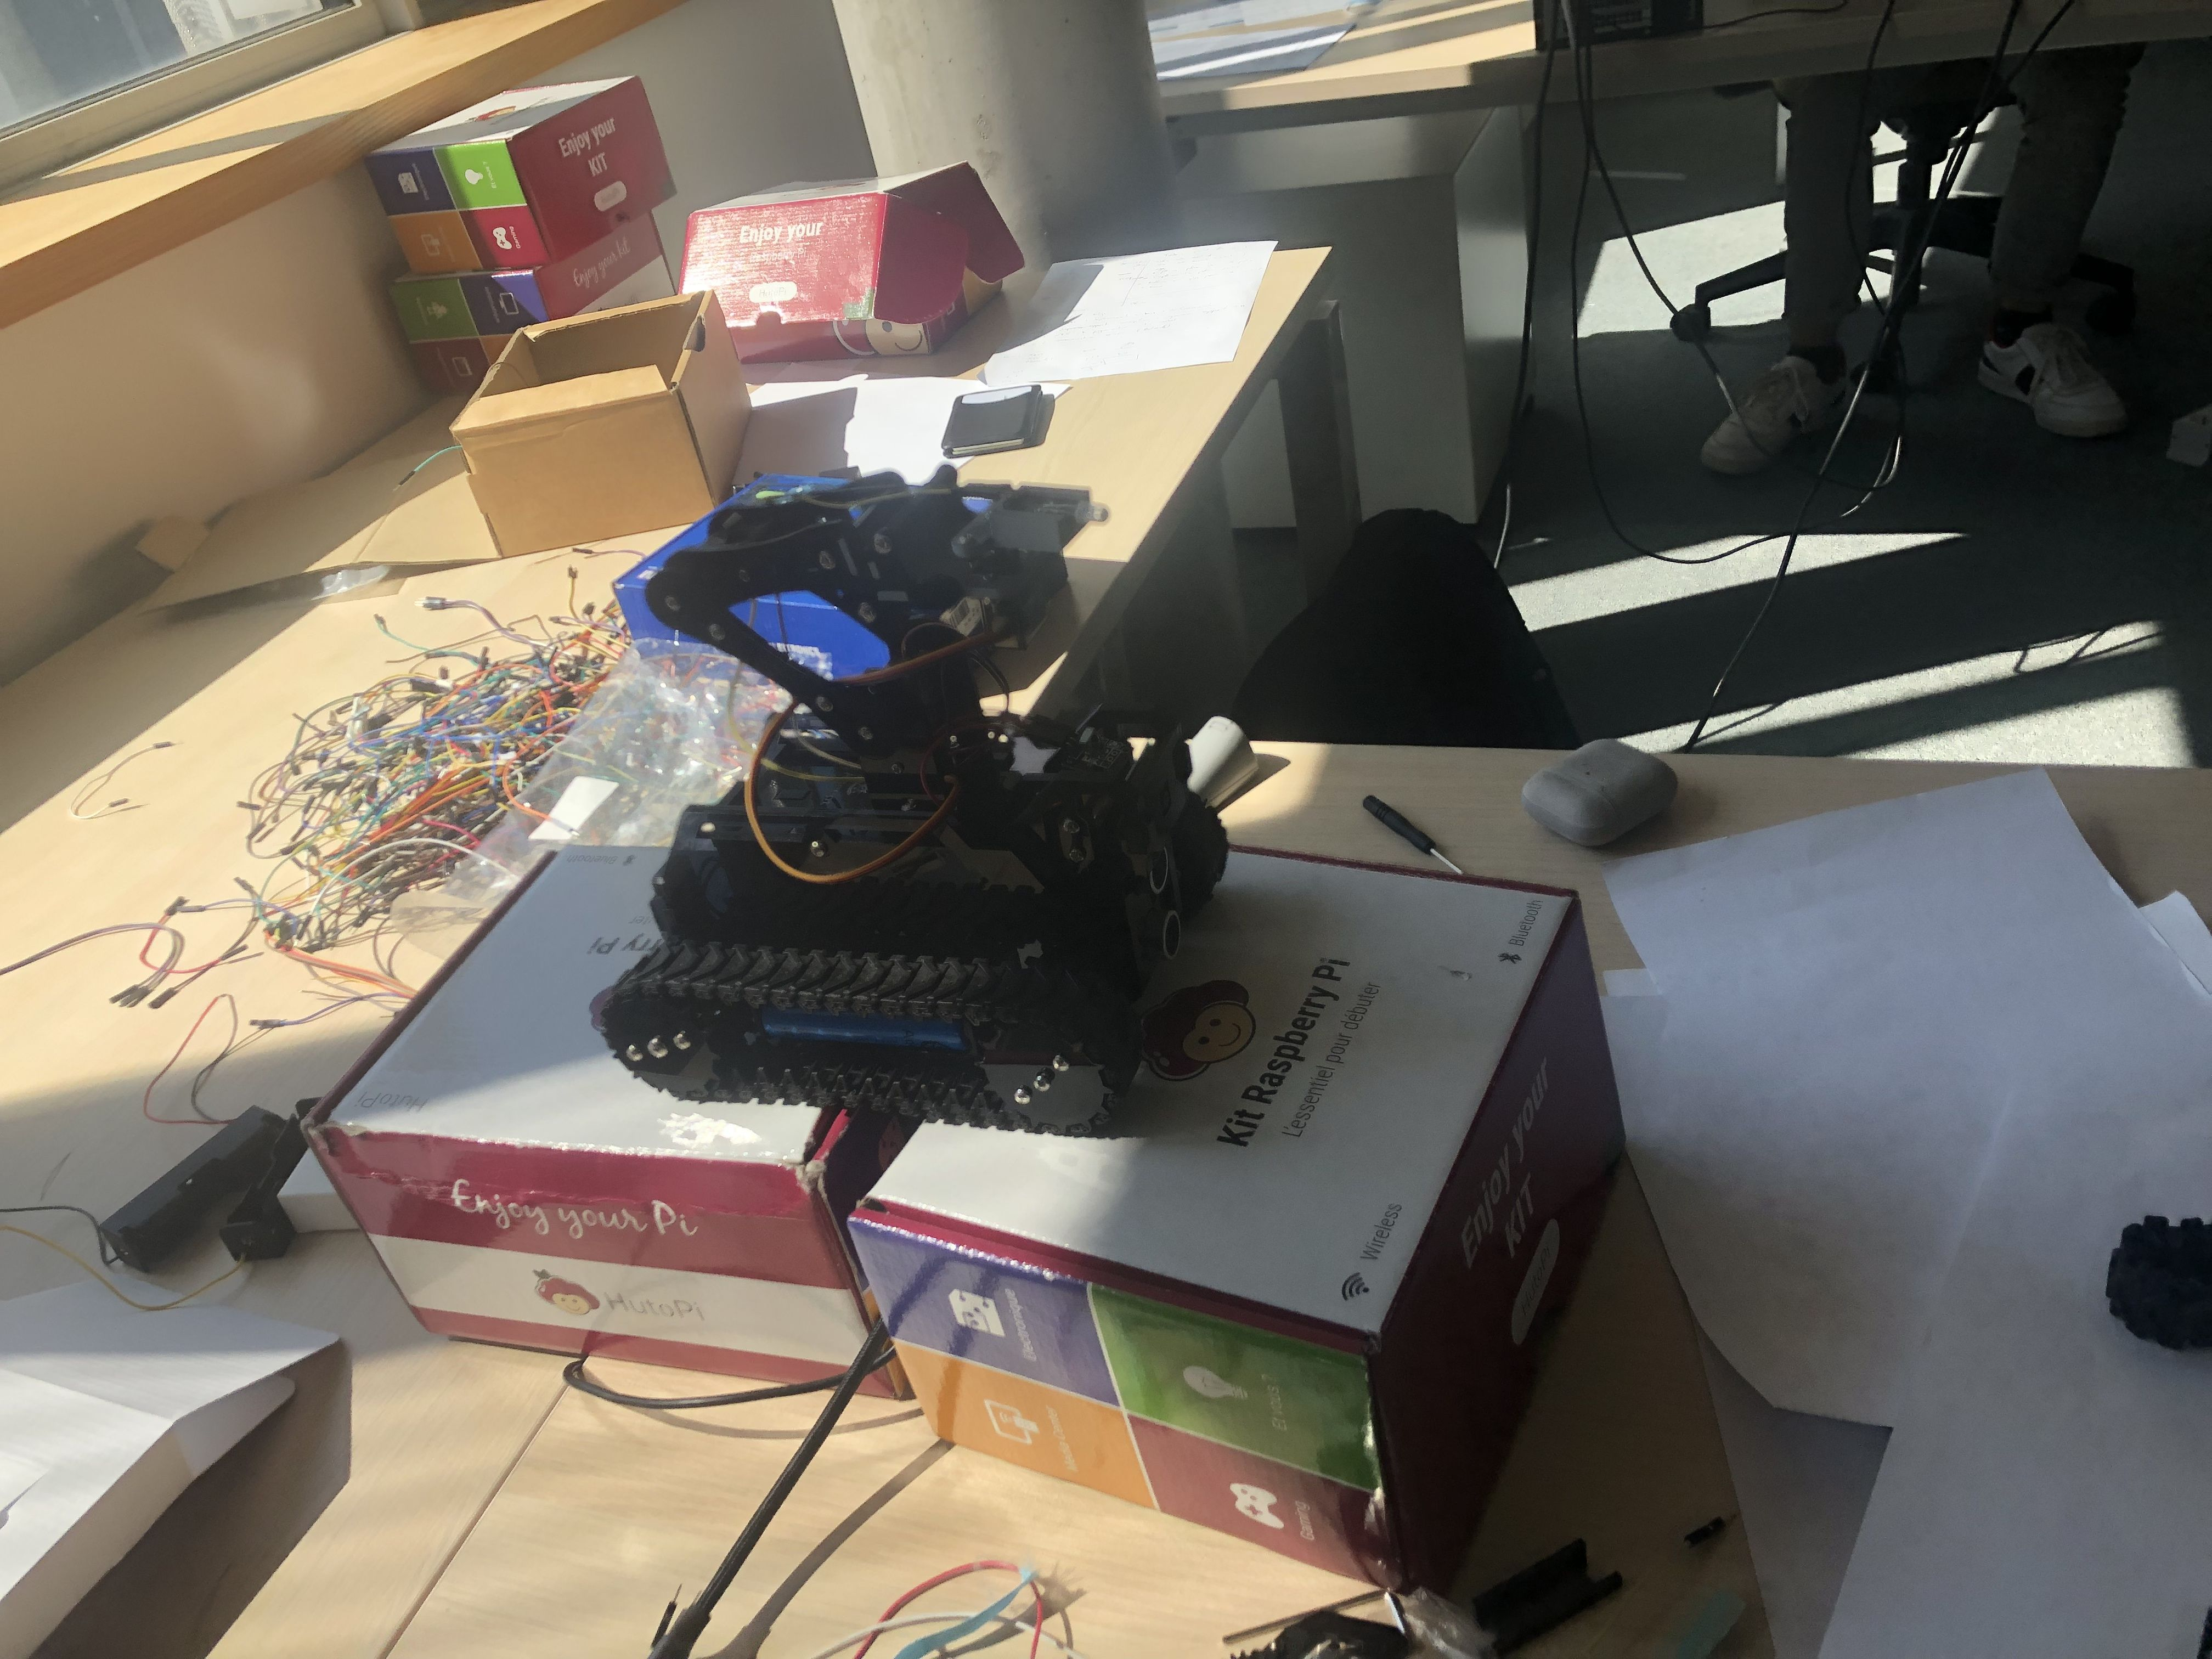rasptank: (596, 444, 1167, 1159)
